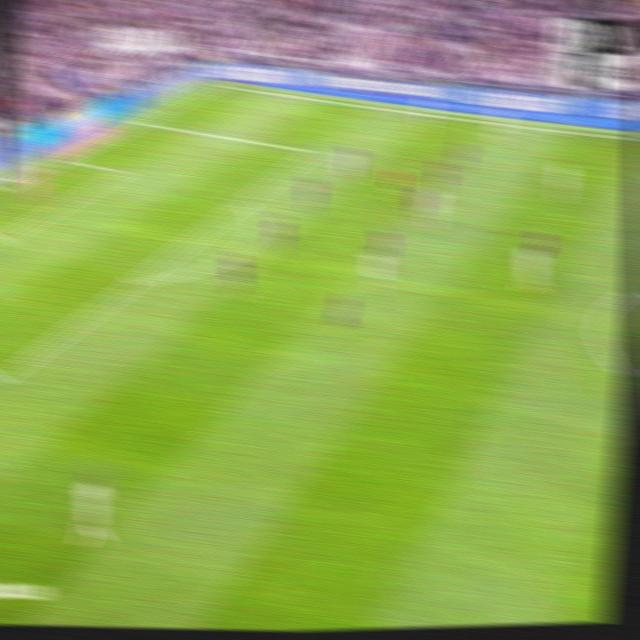bigarea_top_inner: (304, 141, 323, 158)
bottom_arc_area_intersection: (126, 270, 147, 291)
corner: (207, 79, 226, 90)
smallarea_top_inner: (115, 165, 132, 179)
top_arc_area_intersection: (234, 192, 254, 210)
